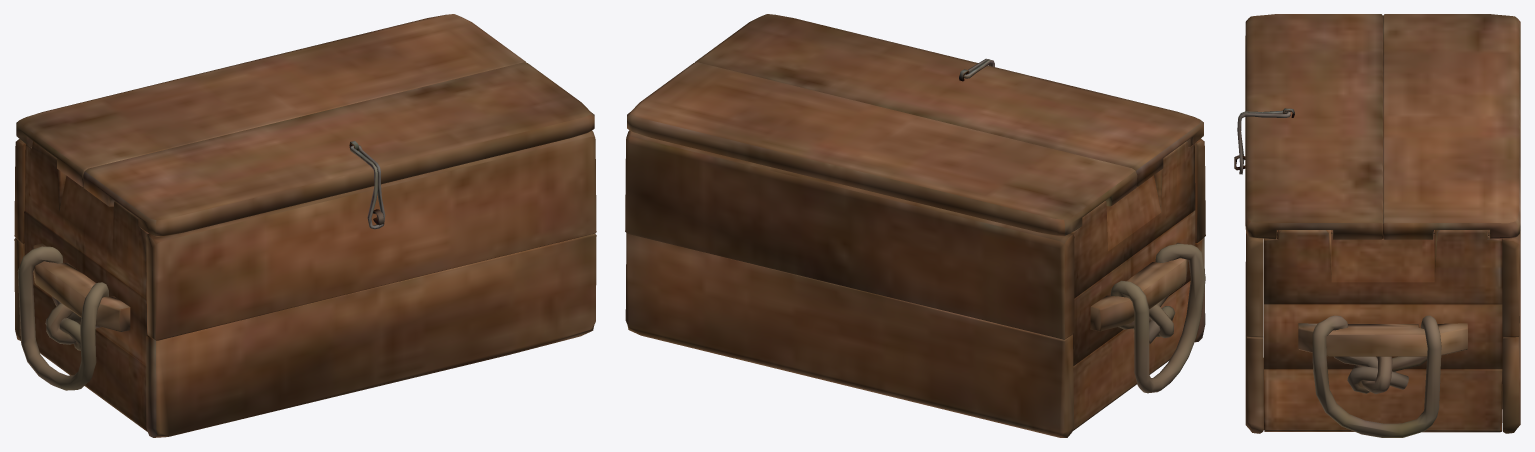
Rendered from wooden_crate_01.glb.
3 renders of one model, left to right at view 1: azimuth 30°, elevation 25°; view 2: azimuth 150°, elevation 25°; view 3: azimuth 270°, elevation 25°, orthographic. The views are drawn at different scales.
Parts seen in each view (by area): view 1: wooden_crate_01, wooden_crate_01_lid, wooden_crate_01_latch; view 2: wooden_crate_01, wooden_crate_01_lid; view 3: wooden_crate_01_lid, wooden_crate_01, wooden_crate_01_latch.
Part boxes in pixels (box(x1,y1,x2,y2)): wooden_crate_01: box(14, 131, 596, 437); wooden_crate_01_lid: box(16, 14, 594, 236); wooden_crate_01_latch: box(350, 145, 385, 229); wooden_crate_01: box(625, 130, 1205, 437); wooden_crate_01_lid: box(627, 14, 1203, 236); wooden_crate_01_lid: box(1245, 14, 1520, 239); wooden_crate_01: box(1234, 155, 1520, 437); wooden_crate_01_latch: box(1237, 110, 1290, 174).
Size of the model in its own units: 0.8245 by 0.3495 by 0.4072.
Materials: 1 (1 with a texture image).
